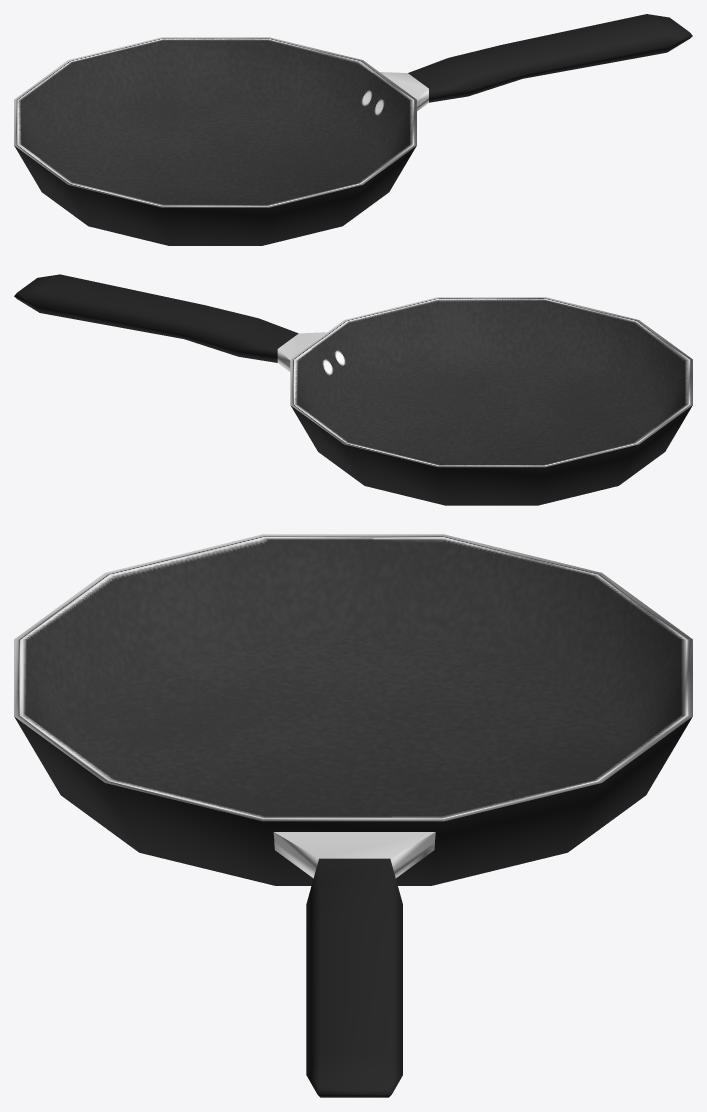
The model's file is fryingPan_small.fbx.
3 renders of one model, top to bottom at view 1: azimuth 30°, elevation 25°; view 2: azimuth 150°, elevation 25°; view 3: azimuth 270°, elevation 25°, orthographic. The views are drawn at different scales.
Parts seen in each view (by area): view 1: fryingPan_small; view 2: fryingPan_small; view 3: fryingPan_small.
Part boxes in pixels (bbox=[...]): fryingPan_small: bbox=[14, 14, 692, 245]; fryingPan_small: bbox=[14, 274, 692, 505]; fryingPan_small: bbox=[14, 534, 692, 1097].
Size of the model in its own units: 0.8791 by 0.0656 by 0.4785.
Materials: 1 (1 with a texture image).
